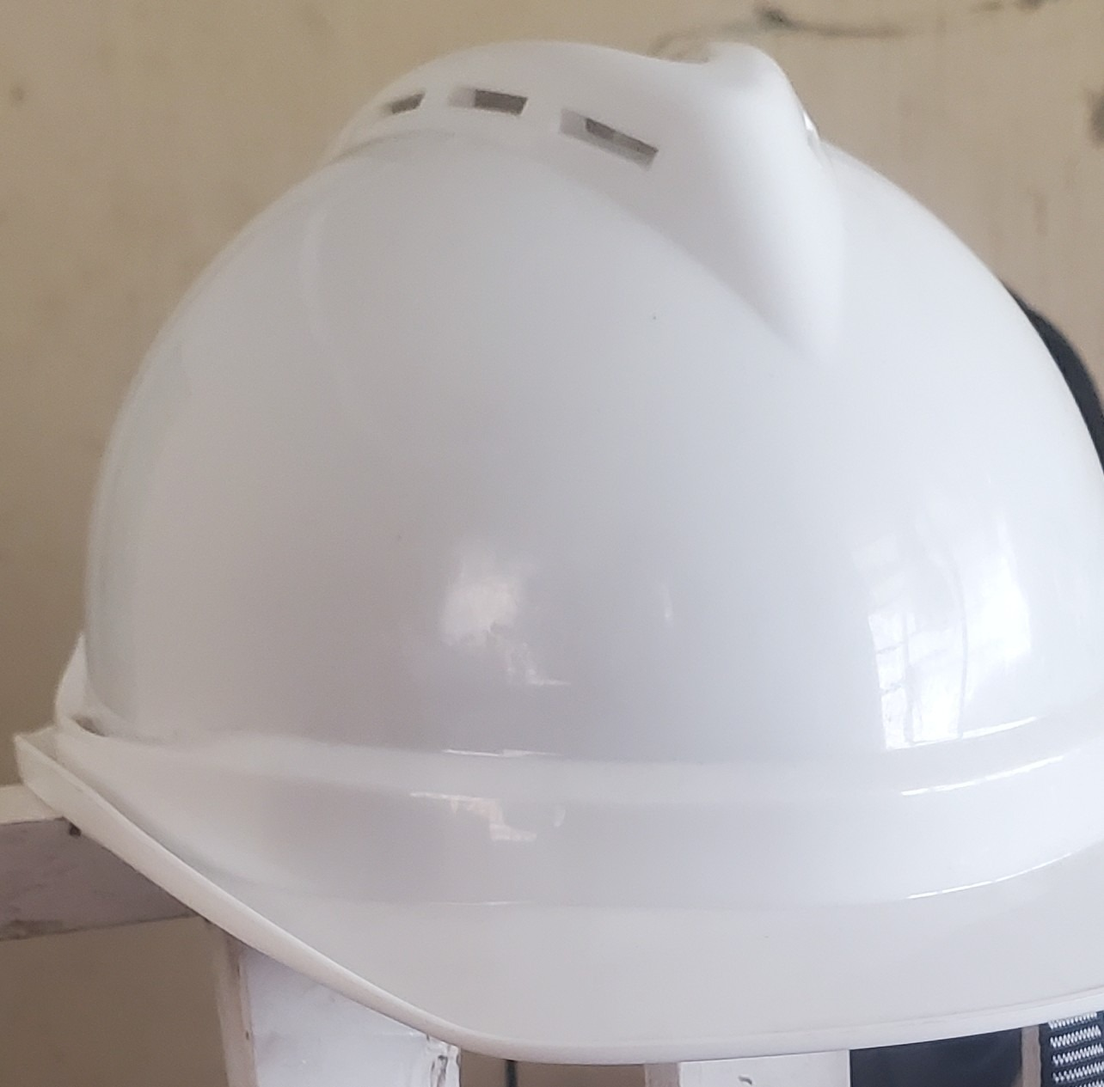helment: (29, 26, 1104, 1087)
